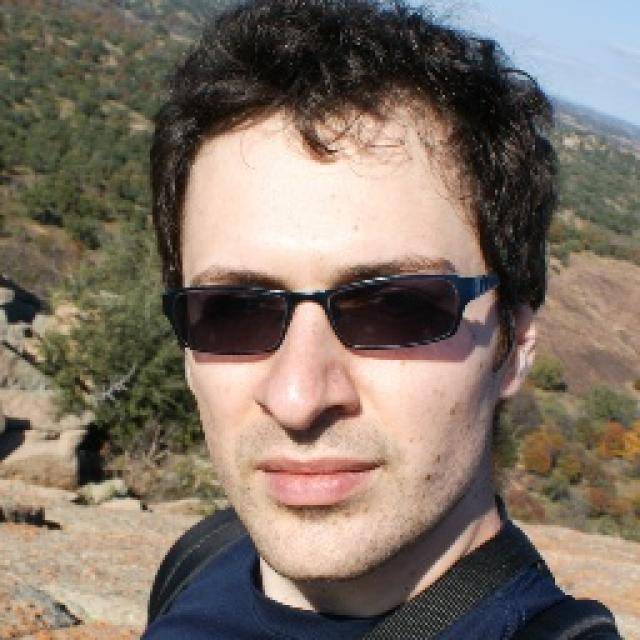earlobe: (498, 369, 518, 400)
eye: (353, 286, 432, 314), (205, 295, 277, 320)
nose: (256, 402, 358, 445)
wholeear: (494, 301, 540, 403)
